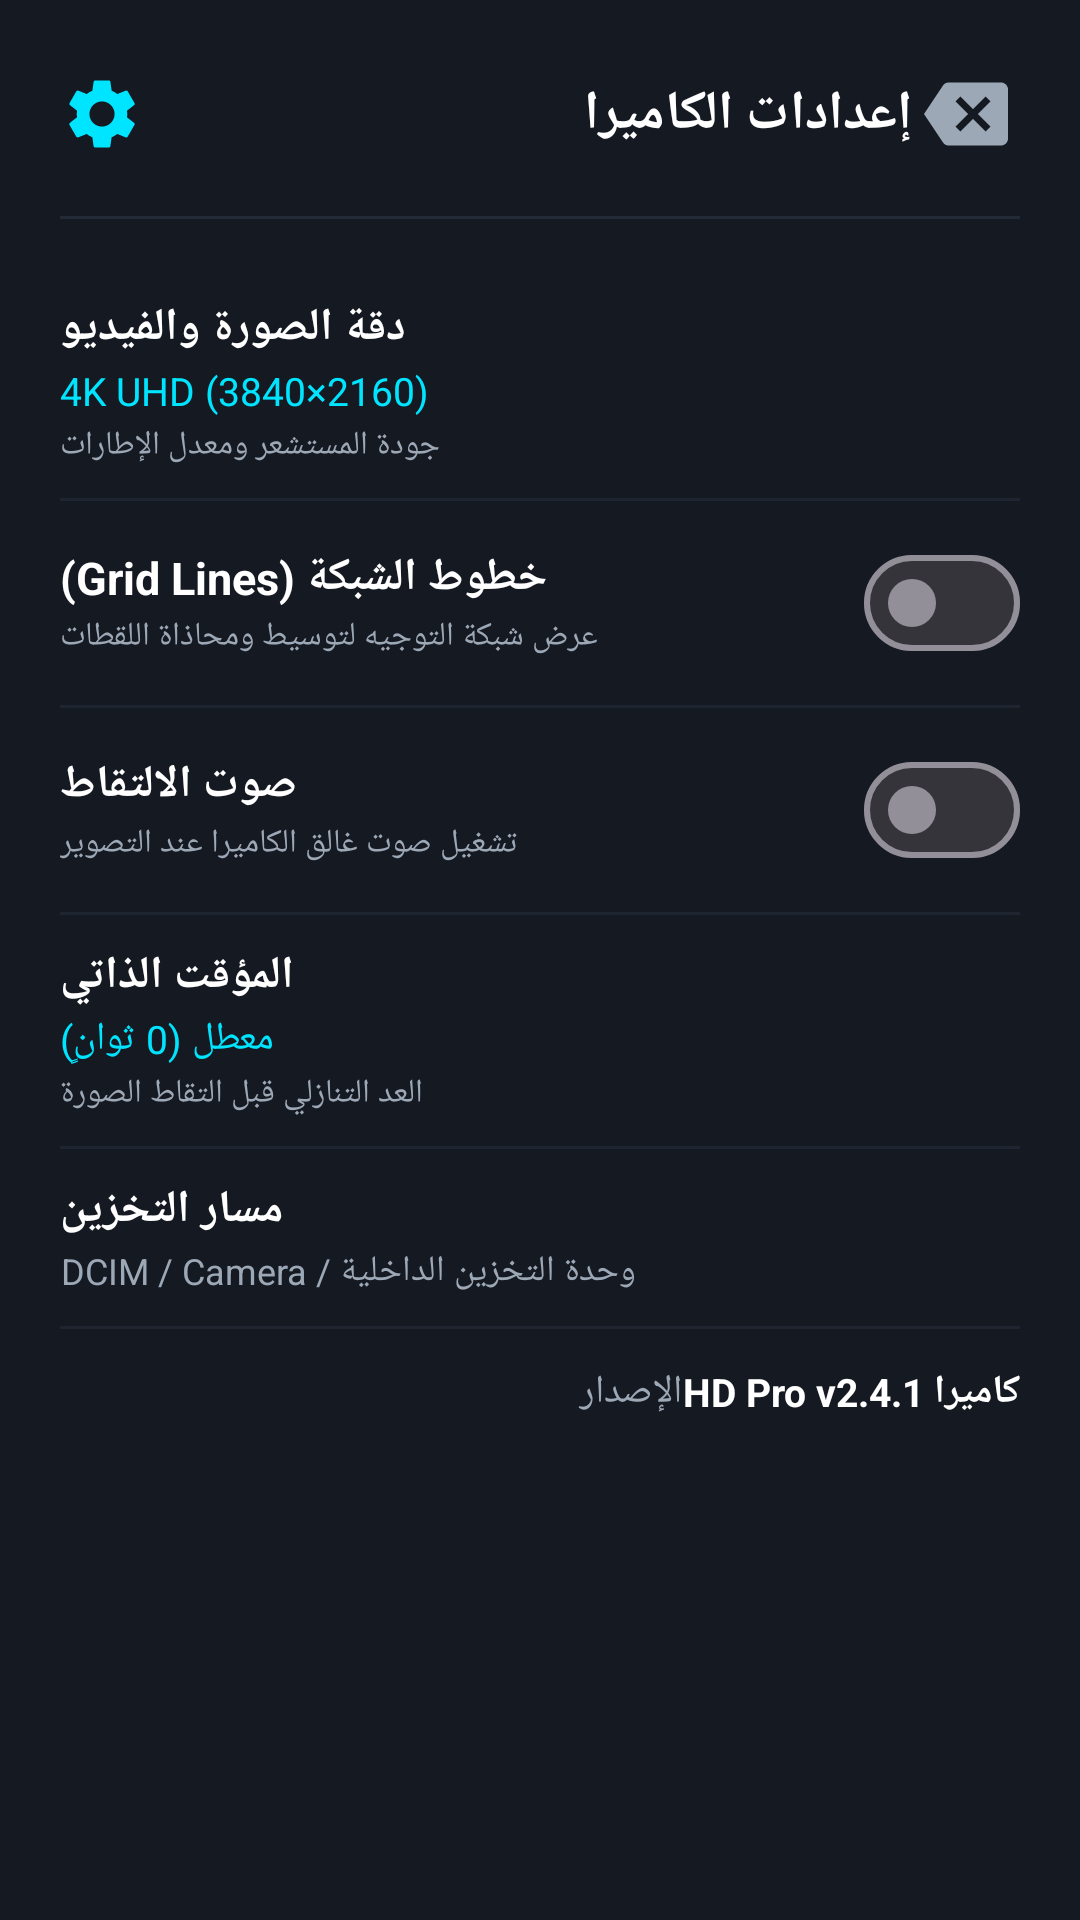

Screen size 1080×1920. Icon name, then its center in pixels as [x,y]:
backspace: [966,114]
settings: [102,114]
